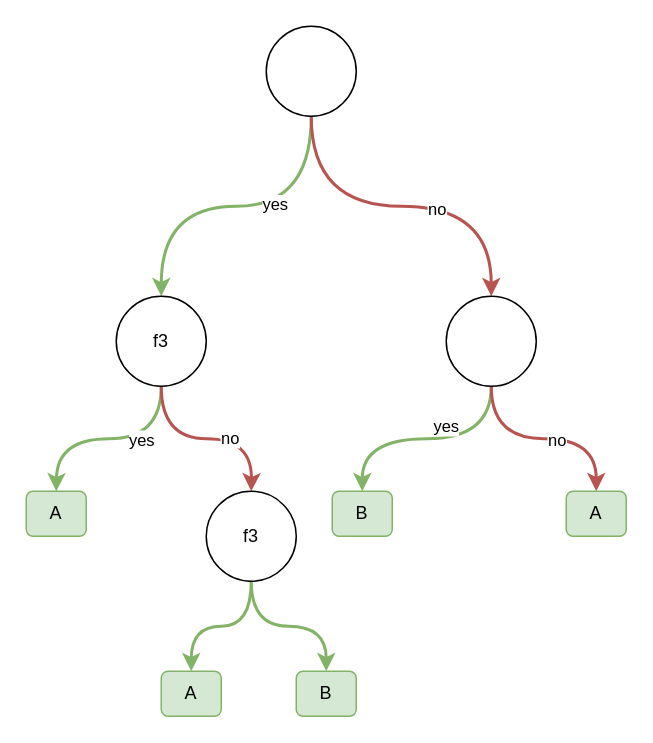
The diagram is 653 pixels wide and 743 high, and some of its shapes have lost their labels. The centre of each missing label's shape, as x and y in pixels:
"f1" belongs at point 490,340.
"f2" belongs at point 310,70.
